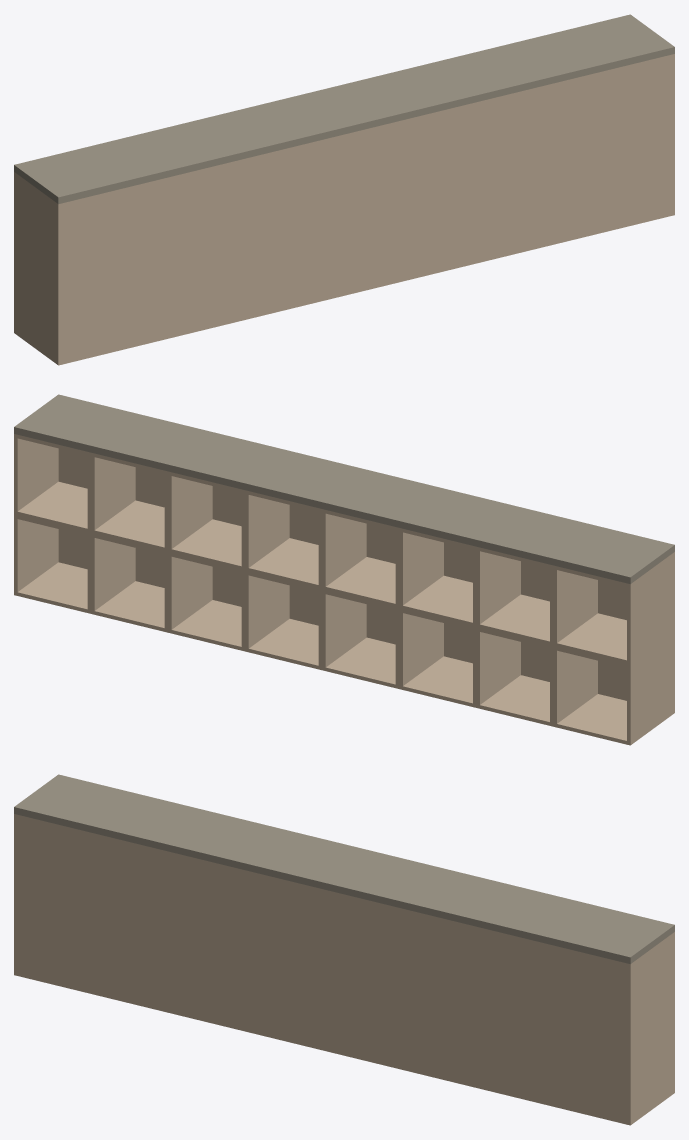
File: Pidgeon_Hole.fbx
The picture shows the model from 3 angles, top to bottom: view 1: azimuth 30°, elevation 25°; view 2: azimuth 150°, elevation 25°; view 3: azimuth 330°, elevation 25°; orthographic projection.
Parts seen in each view (by area): view 1: Pidgeon_Holes; view 2: Pidgeon_Holes; view 3: Pidgeon_Holes.
Part boxes in pixels (x1,y1,x2,y2): Pidgeon_Holes: [14, 14, 674, 365]; Pidgeon_Holes: [14, 394, 674, 745]; Pidgeon_Holes: [14, 774, 674, 1125].
Bounding box in the file's own units: 449 × 117 × 56.08.
